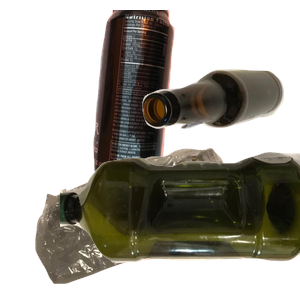glass: (140, 67, 300, 188)
metal: (91, 10, 258, 188)
plastic: (60, 149, 300, 300)
trash: (33, 145, 270, 300)
